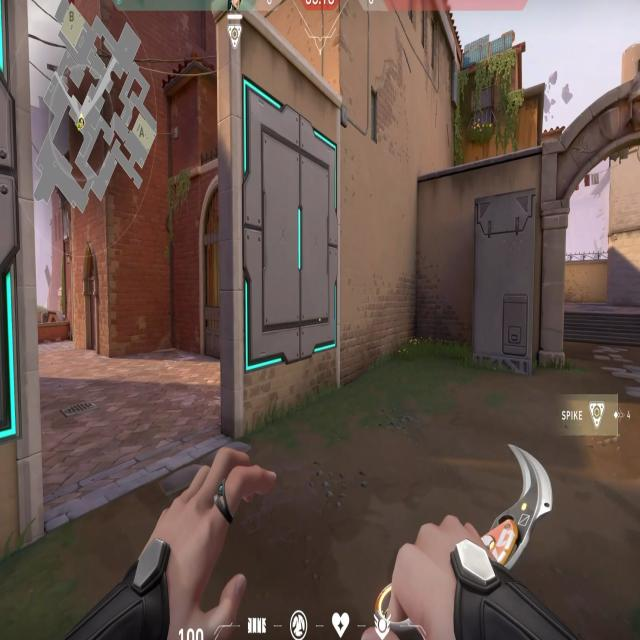Mid_Wall: (225, 21, 357, 423)
